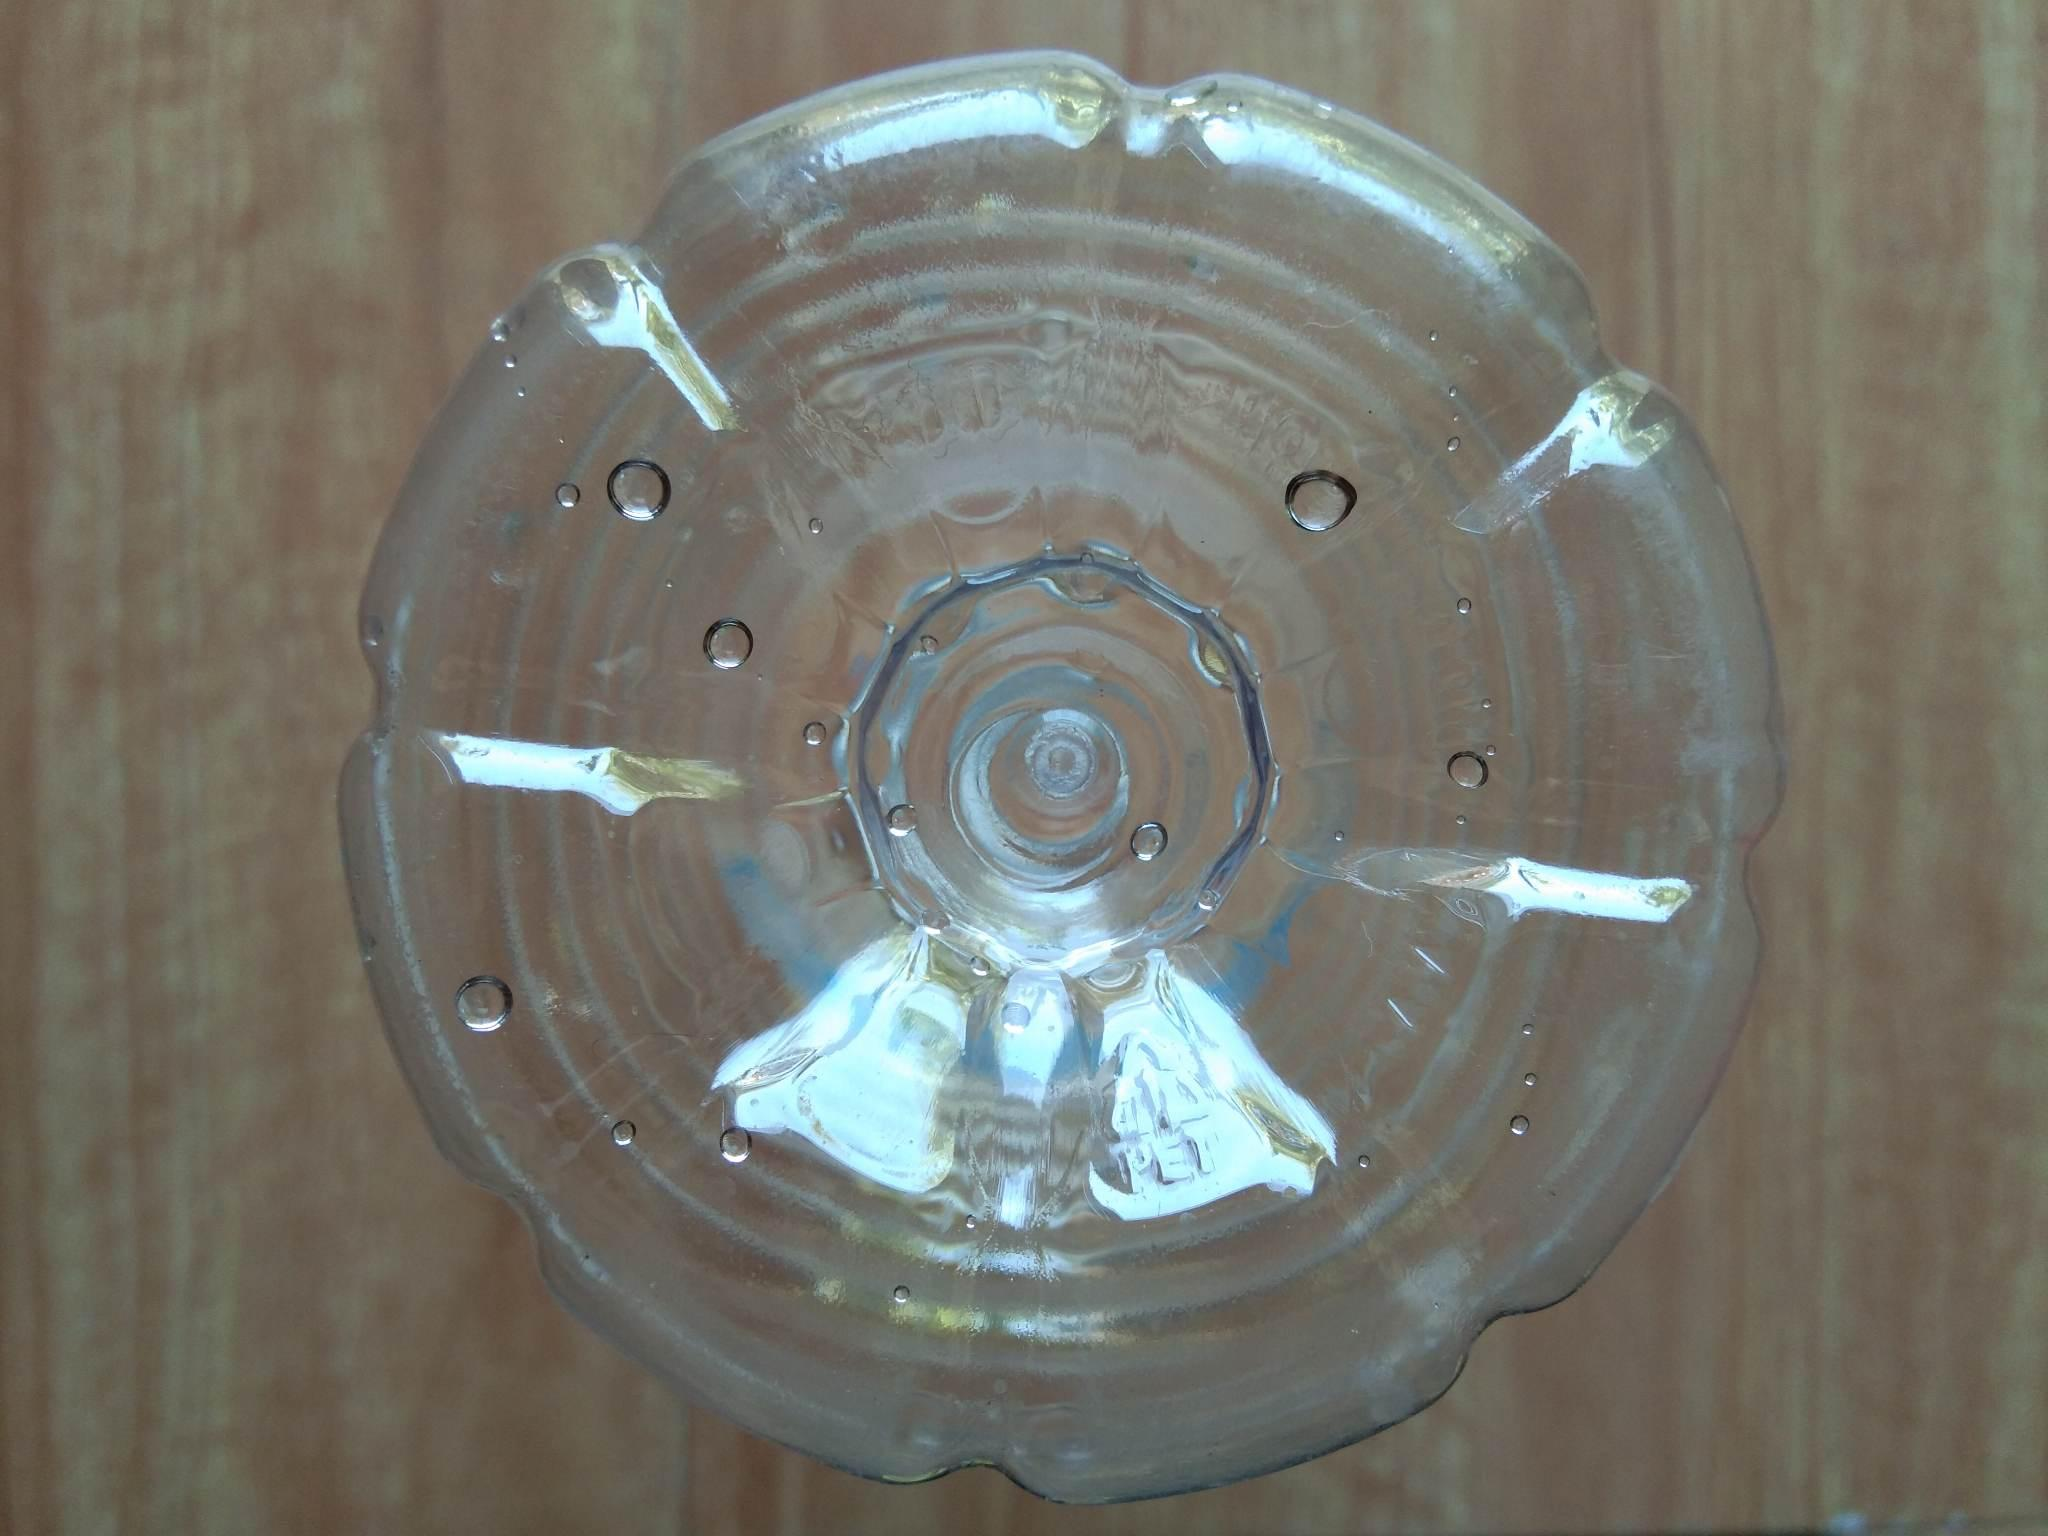plastic: (98, 32, 1988, 1534)
